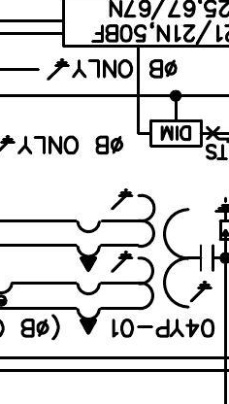115_cvt_1p: (74, 187, 215, 335)
DIM: (150, 119, 203, 148)
